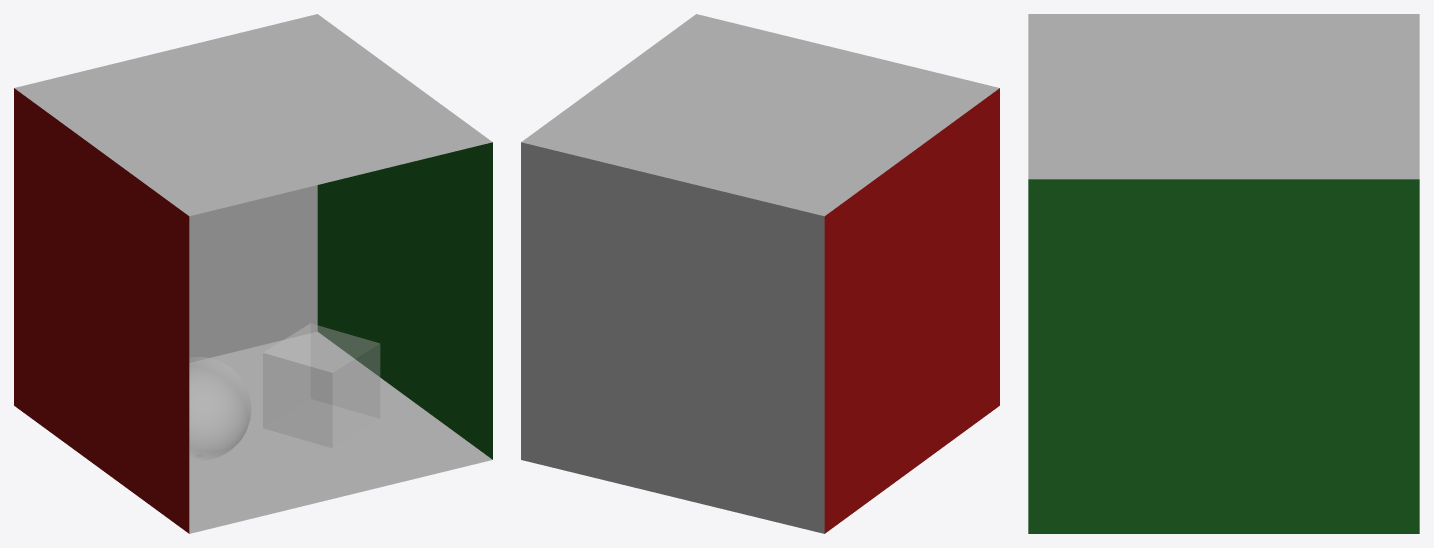
The model's file is cornell-box.glb.
The picture shows the model from 3 angles, left to right: view 1: azimuth 30°, elevation 25°; view 2: azimuth 150°, elevation 25°; view 3: azimuth 270°, elevation 25°; orthographic projection. The views are drawn at different scales.
Visible parts, largest first — view 1: Plane.002, Plane.005, Plane.003, Plane, Plane.004, Cube, Sphere; view 2: Plane.004, Plane.002, Plane.005; view 3: Plane.003, Plane.005.
Part boxes in pixels (x1,y1,x2,y2): Plane.002: (14,88,189,533); Plane.005: (14,14,492,216); Plane.003: (317,142,492,459); Plane: (189,331,492,533); Plane.004: (189,185,317,362); Cube: (263,323,379,447); Sphere: (189,357,250,460); Plane.004: (521,142,824,533); Plane.002: (824,88,999,533); Plane.005: (521,14,999,216); Plane.003: (1028,179,1419,533); Plane.005: (1028,14,1419,179).
Size of the model in its own units: 2 by 2.01 by 2.
